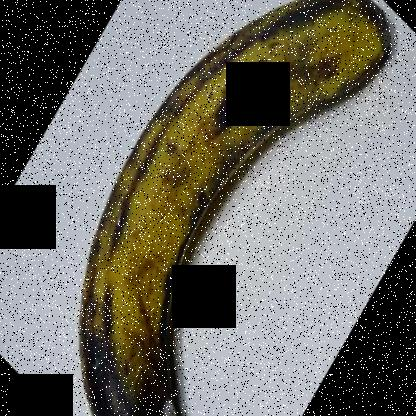overripe: (63, 1, 404, 415)
rotten: (64, 271, 200, 415)
